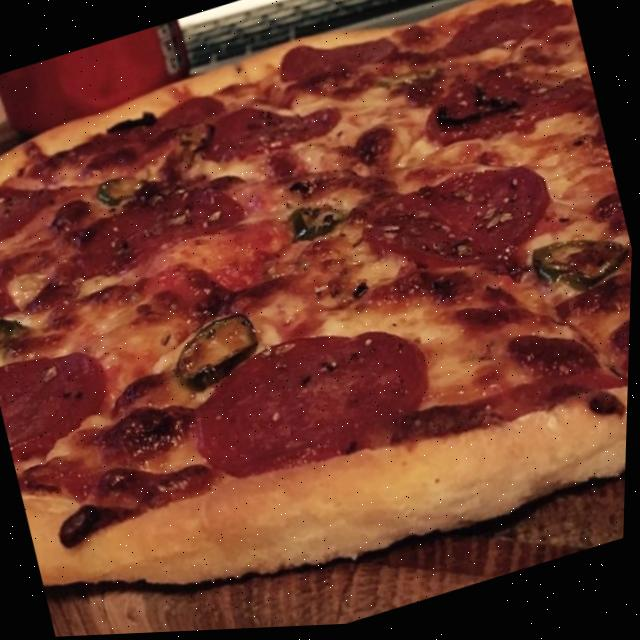black_olives: (166, 303, 275, 402), (213, 92, 343, 173), (529, 216, 634, 309), (420, 60, 525, 142), (102, 401, 189, 472), (283, 194, 354, 252), (97, 178, 129, 209)
pepperoni: (186, 313, 441, 497), (380, 155, 563, 285), (0, 339, 117, 447)
pizza: (0, 0, 640, 640)
